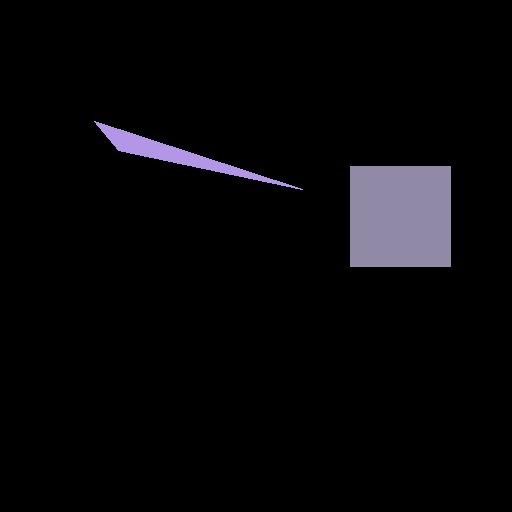square: (350, 166, 450, 266)
triangle: (94, 121, 302, 189)
